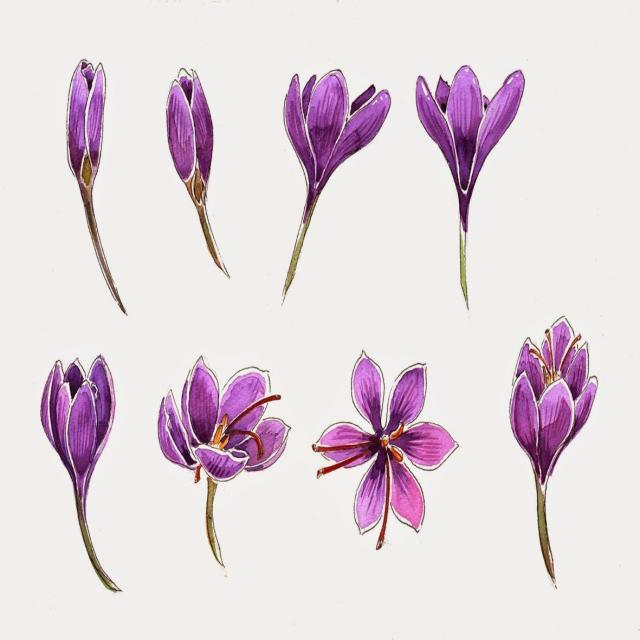Flower: (314, 344, 460, 538), (146, 350, 293, 494), (409, 63, 546, 203), (508, 317, 606, 486), (278, 65, 398, 185), (34, 342, 125, 497), (160, 67, 225, 198), (60, 49, 116, 183)
stigma: (226, 388, 281, 432), (374, 447, 397, 552), (306, 434, 364, 459), (314, 459, 366, 478)
